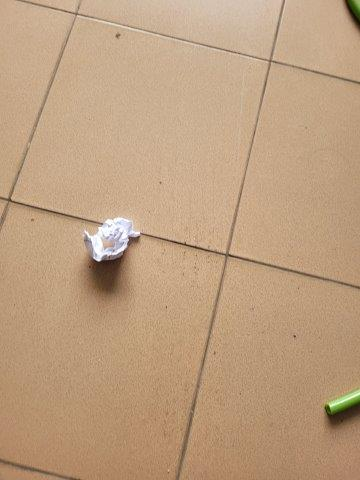kertas: (82, 217, 142, 264)
